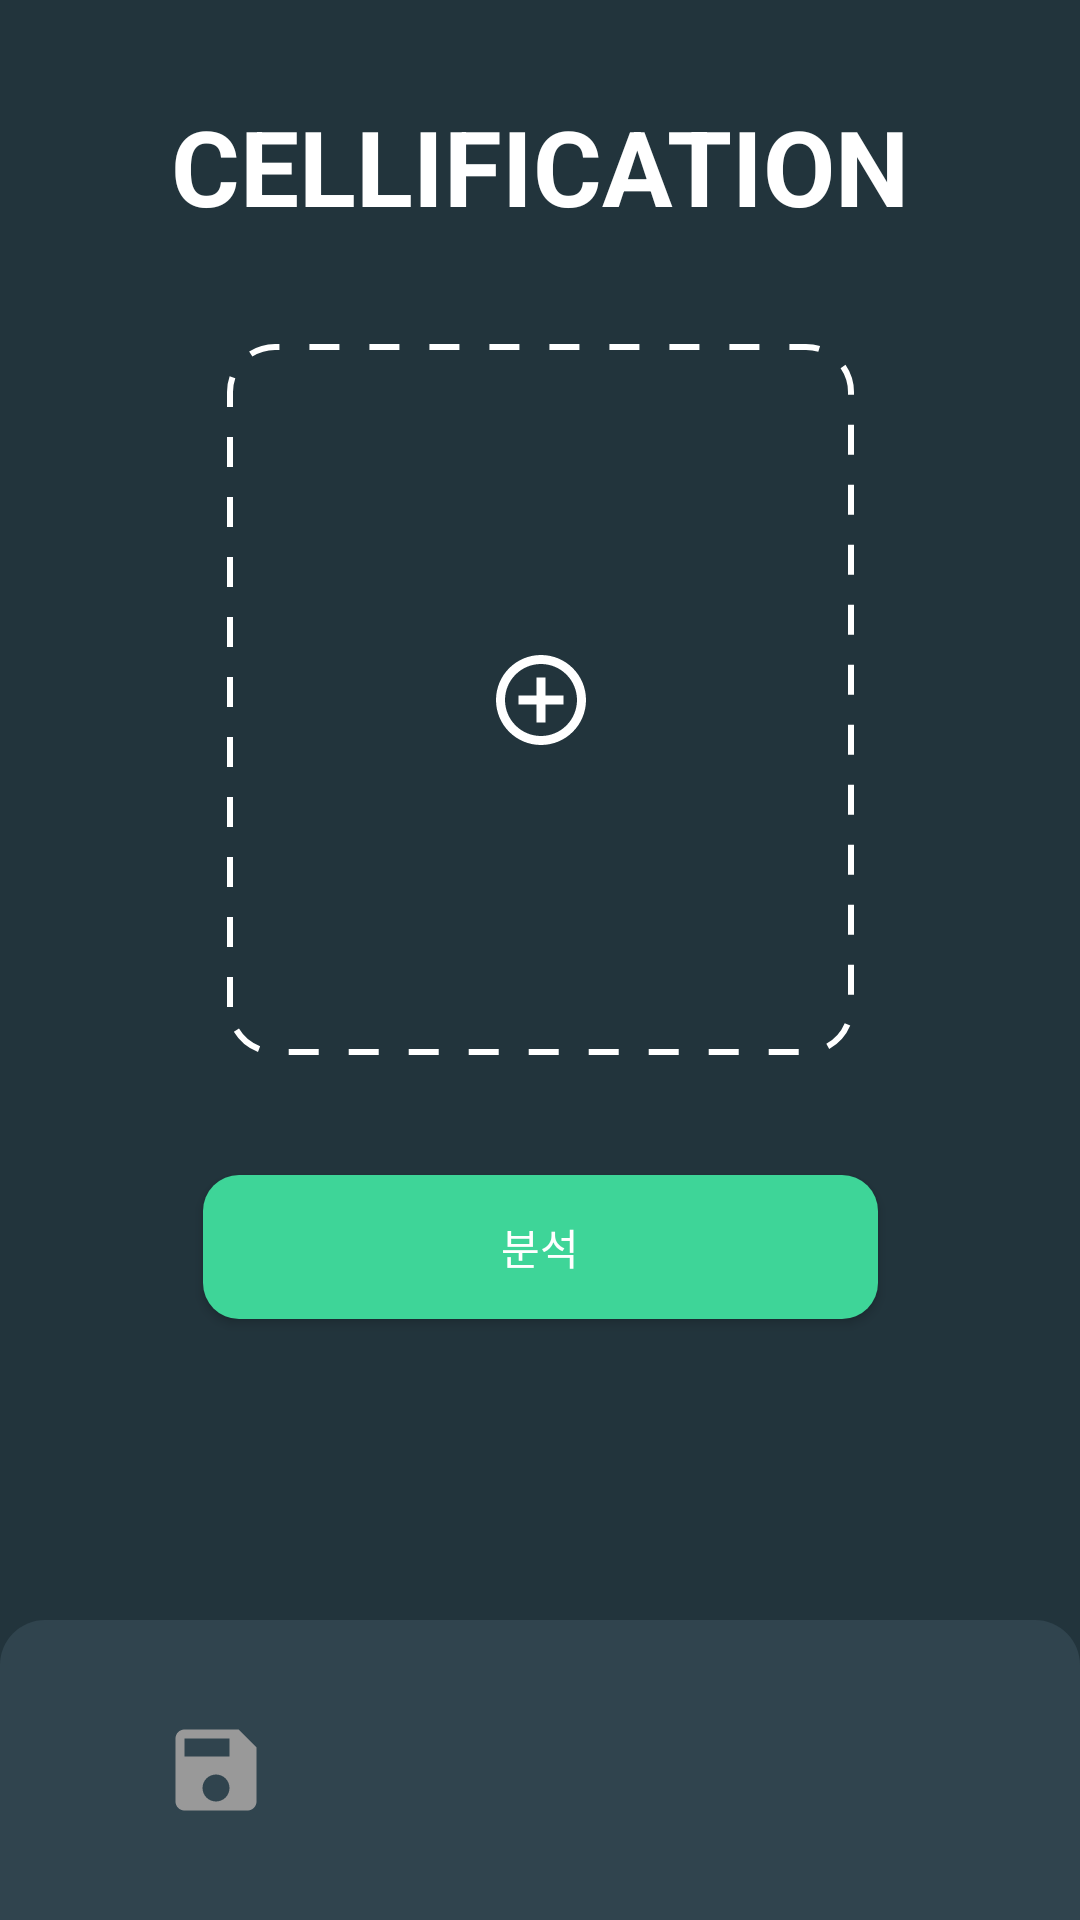

Screen size 1080×1920. Icon name, then its center in pixels as (x=x, y=y):
save: (x=216, y=1770)
